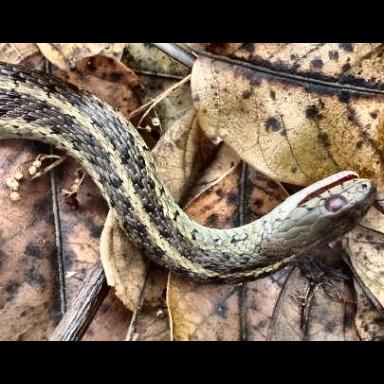snake: (0, 63, 384, 286)
